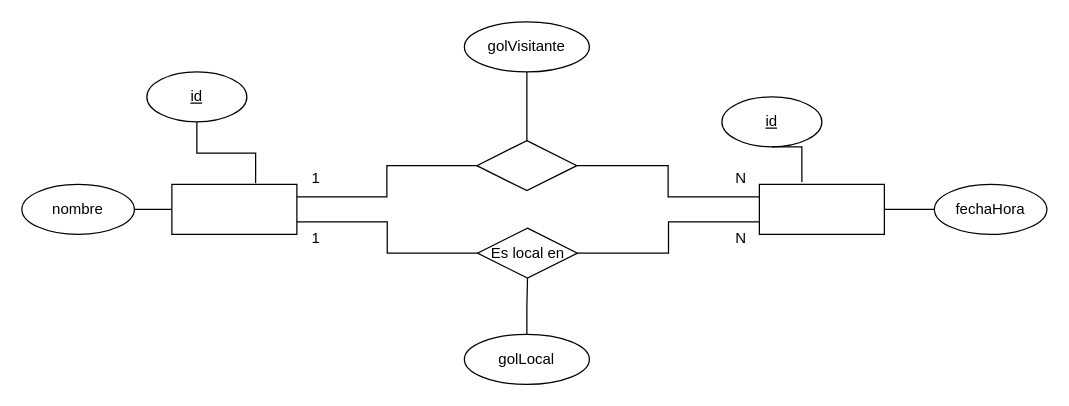
Some shapes in this 1069 by 406 pixel diagram are drawn without their labels. The shapes that lost their labels are listed below. From the top down, each one's box as (x1, y1, x2, y2) in pixels, then its label:
(476, 139, 577, 191): Es visitante en
(171, 183, 297, 234): EQUIPO
(758, 183, 884, 234): PARTIDO
